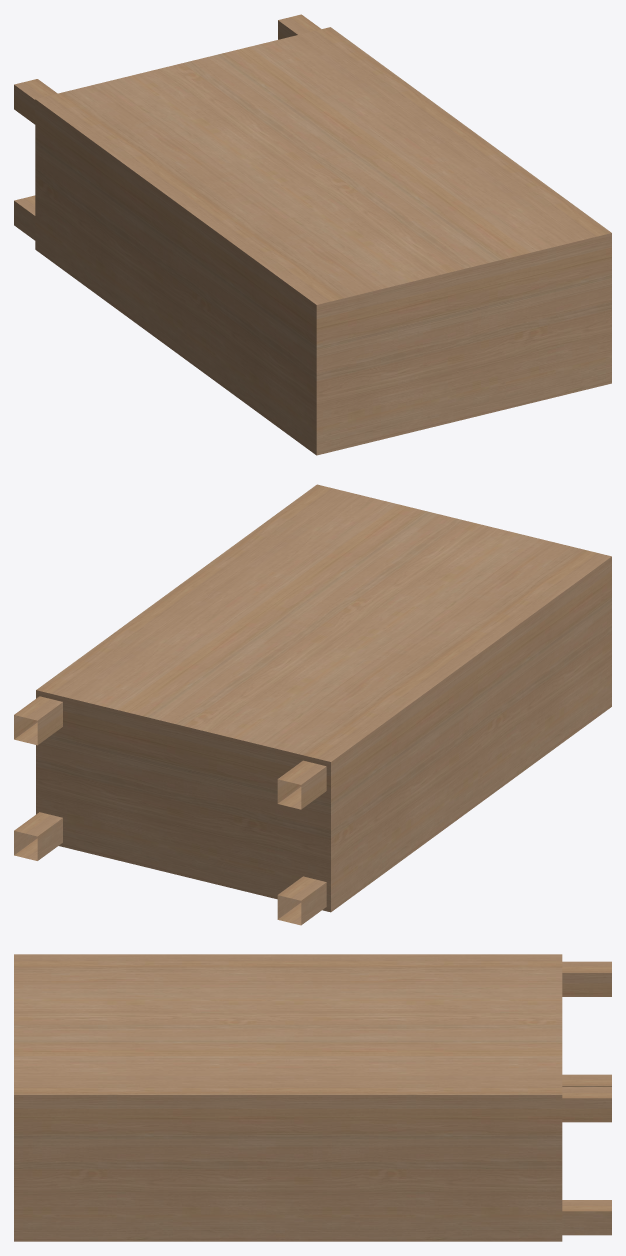
The model's file is SM_Kleiderschank.obj.
3 views of the same model, one above another, from view 1: azimuth 30°, elevation 25°; view 2: azimuth 150°, elevation 25°; view 3: azimuth 270°, elevation 25° (orthographic). The views are drawn at different scales.
Visible parts, largest first — view 1: SM_Kleiderschank; view 2: SM_Kleiderschank; view 3: SM_Kleiderschank.
Part boxes in pixels (<box>): SM_Kleiderschank: <box>14,14,611,455</box>; SM_Kleiderschank: <box>14,484,611,925</box>; SM_Kleiderschank: <box>14,954,611,1241</box>.
Size of the model in its own units: 1 by 0.4949 by 1.8.
